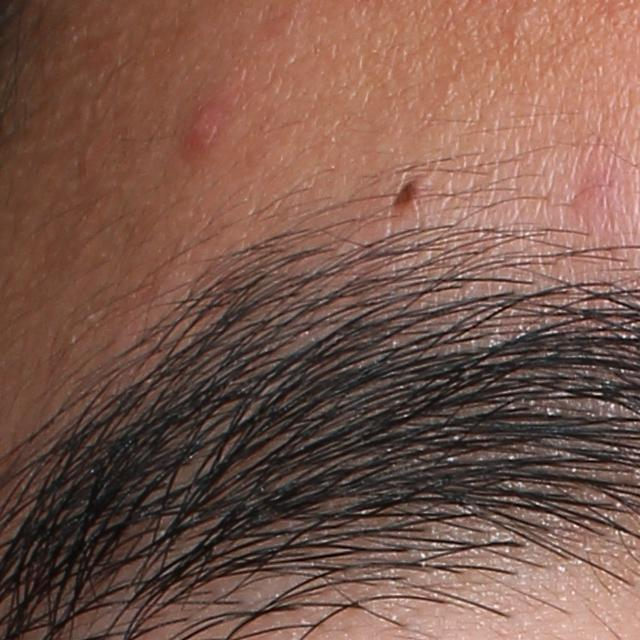nevus: (390, 177, 427, 214)
papule: (180, 99, 230, 159)
